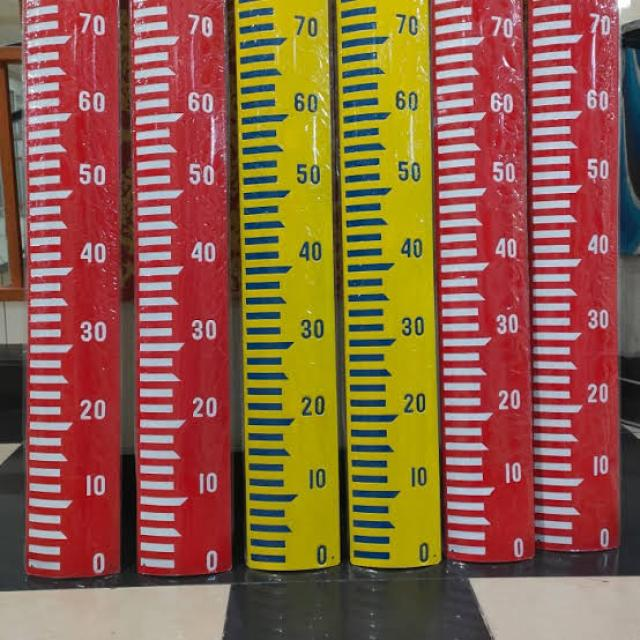10: (82, 471, 109, 498), (196, 470, 221, 498), (407, 463, 430, 490), (502, 460, 526, 485), (306, 464, 327, 491), (588, 451, 609, 476)
20: (298, 391, 329, 419), (77, 395, 106, 422), (494, 384, 522, 411), (191, 396, 220, 420), (584, 381, 612, 405), (403, 390, 428, 414)
30: (78, 315, 110, 346), (188, 314, 218, 342), (400, 310, 428, 340), (583, 304, 613, 331), (493, 312, 519, 337), (299, 316, 326, 340)
40: (399, 233, 425, 263), (78, 241, 108, 266), (190, 238, 216, 266), (297, 238, 322, 265), (495, 236, 517, 261), (587, 232, 609, 257)
50: (187, 161, 217, 187), (76, 162, 107, 187), (586, 154, 612, 183), (398, 157, 425, 184), (295, 160, 322, 186), (490, 158, 517, 184)
60: (73, 88, 109, 115), (185, 86, 217, 114), (290, 88, 322, 116), (585, 85, 612, 112), (394, 88, 422, 114), (488, 90, 517, 113)
70: (183, 9, 218, 43), (76, 10, 110, 42), (487, 8, 518, 41), (392, 8, 421, 40), (294, 9, 320, 44), (587, 7, 613, 40)
staff: (21, 0, 123, 575), (129, 0, 231, 574), (231, 0, 330, 571), (526, 0, 624, 551), (339, 1, 433, 566), (441, 0, 529, 561)
